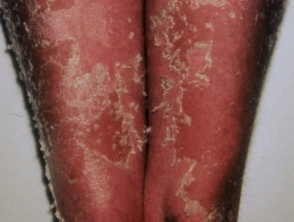SJS-TEN: (0, 0, 174, 222), (143, 0, 290, 222)
